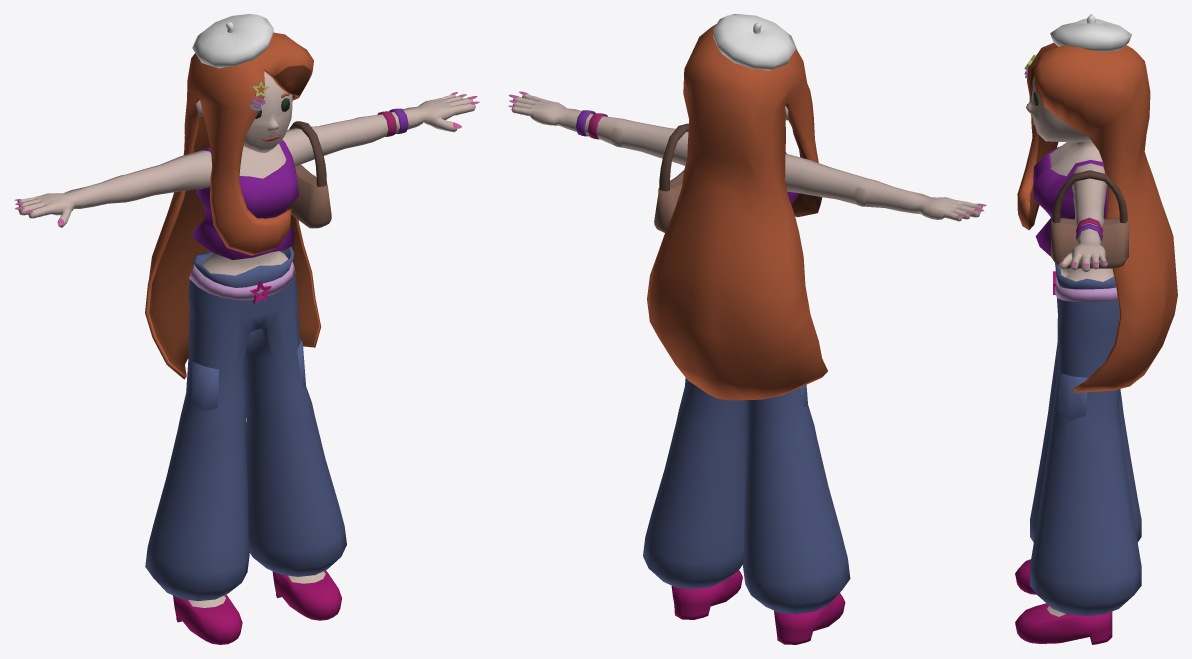
Rendered from PaqueraFeminina.fbx.
3 renders of one model, left to right at view 1: azimuth 30°, elevation 25°; view 2: azimuth 150°, elevation 25°; view 3: azimuth 270°, elevation 25°, orthographic. The views are drawn at different scales.
Parts seen in each view (by area): view 1: Bella_Humanoid, Bella_Boina, Bella_Bag; view 2: Bella_Humanoid, Bella_Boina, Bella_Bag; view 3: Bella_Humanoid, Bella_Bag, Bella_Boina, Bella_Bracelets.
Part boxes in pixels (x1=…): Bella_Humanoid: x1=14, y1=32, x2=479, y2=644; Bella_Boina: x1=192, y1=14, x2=273, y2=68; Bella_Bag: x1=286, y1=121, x2=331, y2=228; Bella_Humanoid: x1=508, y1=24, x2=986, y2=644; Bella_Boina: x1=712, y1=14, x2=796, y2=70; Bella_Bag: x1=654, y1=123, x2=688, y2=232; Bella_Humanoid: x1=1015, y1=42, x2=1177, y2=644; Bella_Bag: x1=1051, y1=170, x2=1128, y2=268; Bella_Boina: x1=1050, y1=14, x2=1131, y2=51; Bella_Bracelets: x1=1076, y1=217, x2=1102, y2=241.
Bounding box in the file's own units: 129 × 157 × 39.2.
